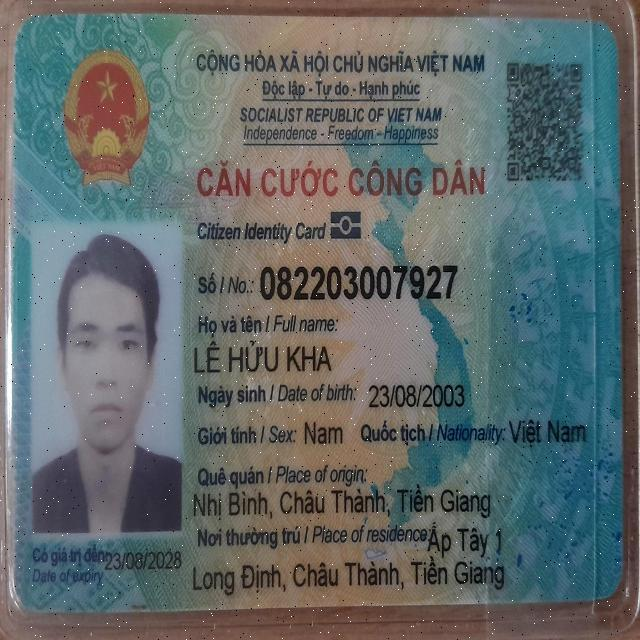current_place: (190, 553, 506, 597), (426, 518, 503, 560)
dob: (366, 380, 467, 412)
expire_date: (103, 549, 184, 572)
gender: (302, 418, 344, 448)
id: (257, 260, 460, 307)
name: (192, 337, 335, 376)
nationality: (507, 417, 587, 450)
origin_place: (190, 483, 492, 524)
qr: (503, 56, 593, 188)
